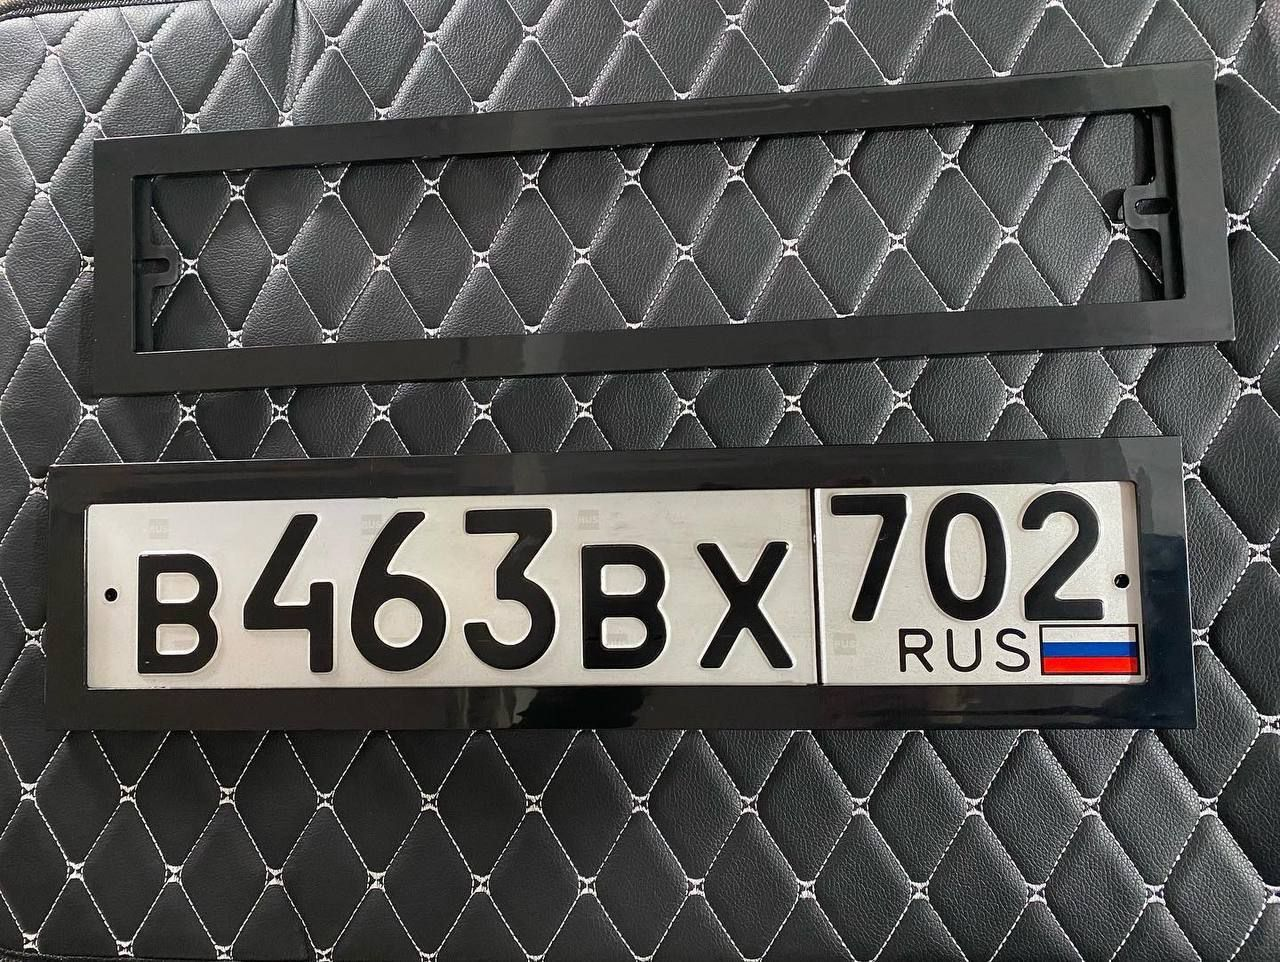number_plate: (64, 474, 1164, 701)
